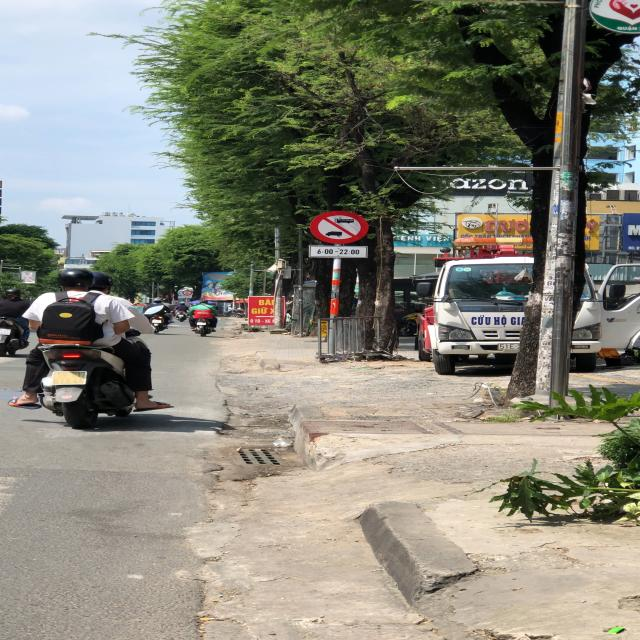Bien bao cam xe oto khach va xe oto tai: (302, 210, 375, 245)
